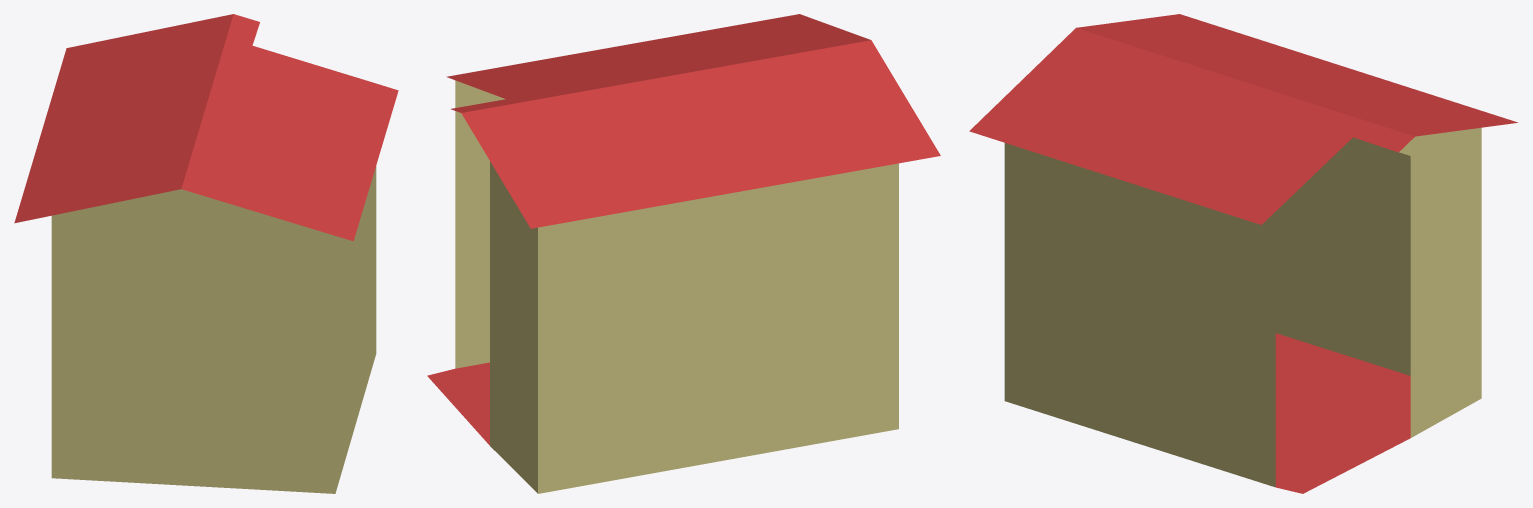
3 renders of one model, left to right at view 1: azimuth 30°, elevation 25°; view 2: azimuth 150°, elevation 25°; view 3: azimuth 270°, elevation 25°, orthographic. The views are drawn at different scales.
Size of the model in its own units: 13.68 by 15.06 by 9.49.
